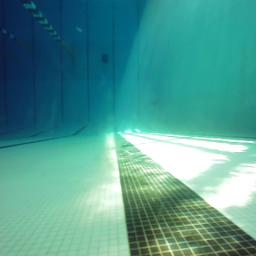Full: (101, 54, 109, 64)
